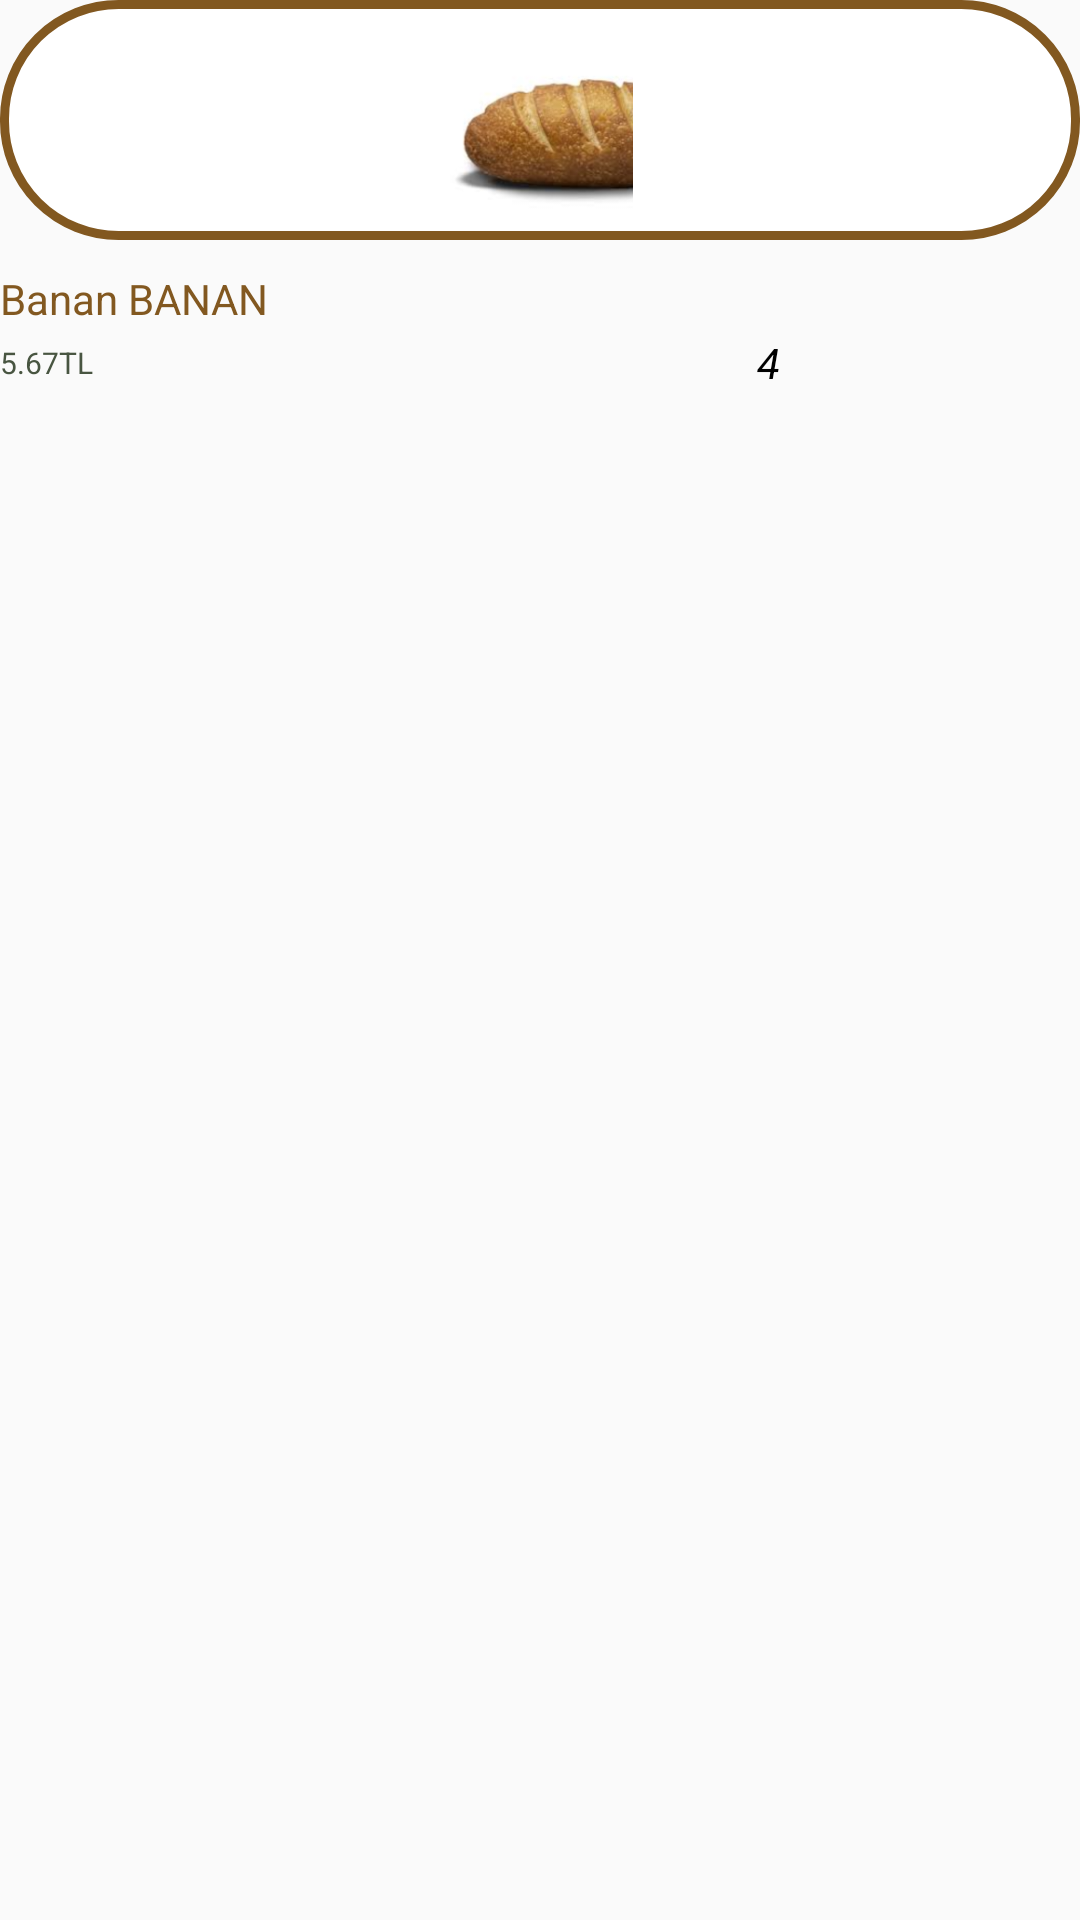

Icons on this 1080w x 1920h Android screen, each with its box as (x1, y1, x2, y2):
baked goods: (457, 79, 633, 200)
